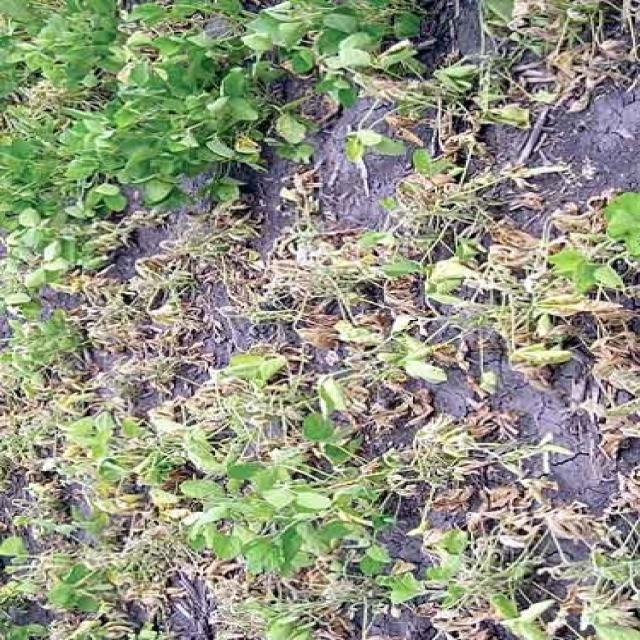Fusarium Wilt: (40, 84, 568, 516)
